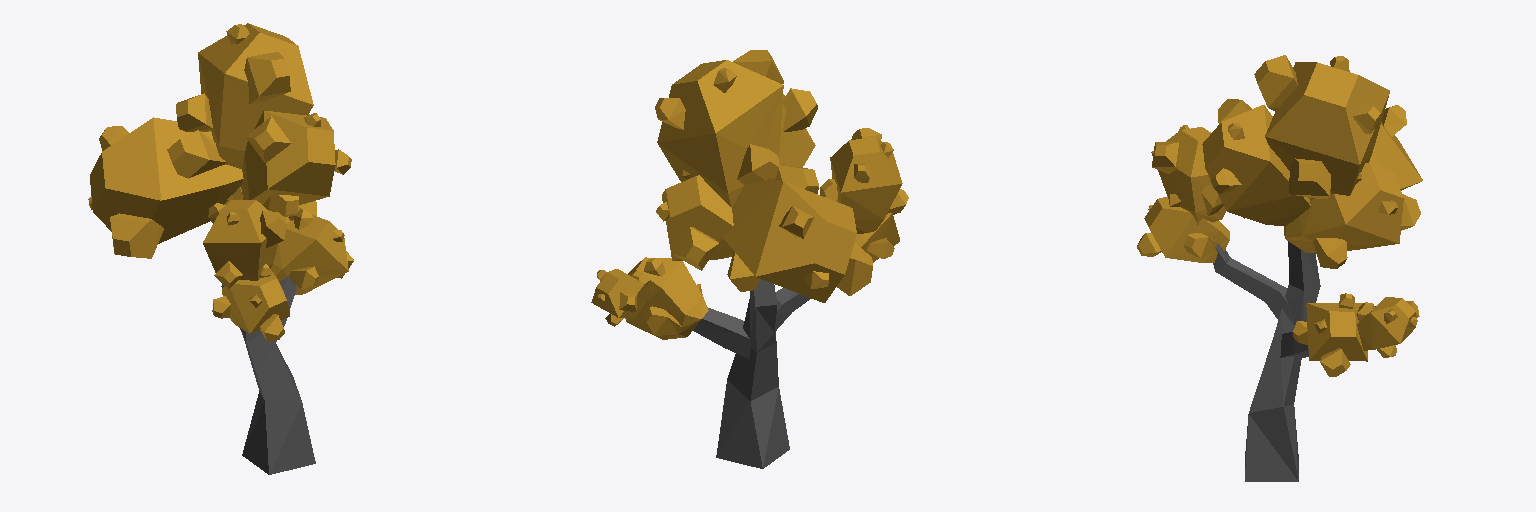
The model's file is tree4.obj.
3 renders of one model, left to right at view 1: azimuth 30°, elevation 25°; view 2: azimuth 150°, elevation 25°; view 3: azimuth 270°, elevation 25°, orthographic.
Visible parts, largest first — view 1: crown, Tree; view 2: crown, Tree; view 3: crown, Tree.
Part boxes in pixels (left/top/right/bottom): crown: left=88, top=23, right=353, bottom=341; Tree: left=221, top=276, right=315, bottom=474; crown: left=591, top=50, right=908, bottom=339; Tree: left=693, top=279, right=811, bottom=468; crown: left=1137, top=55, right=1422, bottom=376; Tree: left=1213, top=241, right=1320, bottom=481.
Bounding box in the file's own units: 7.91 × 12.5 × 7.92.